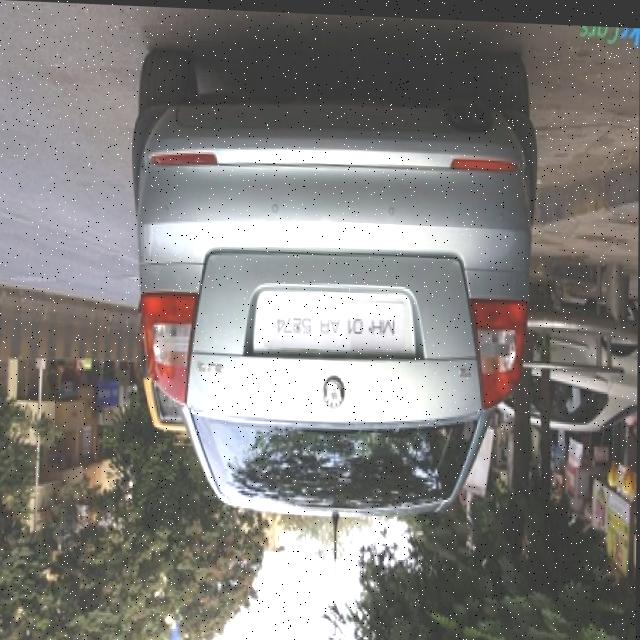plate: (261, 291, 408, 348)
